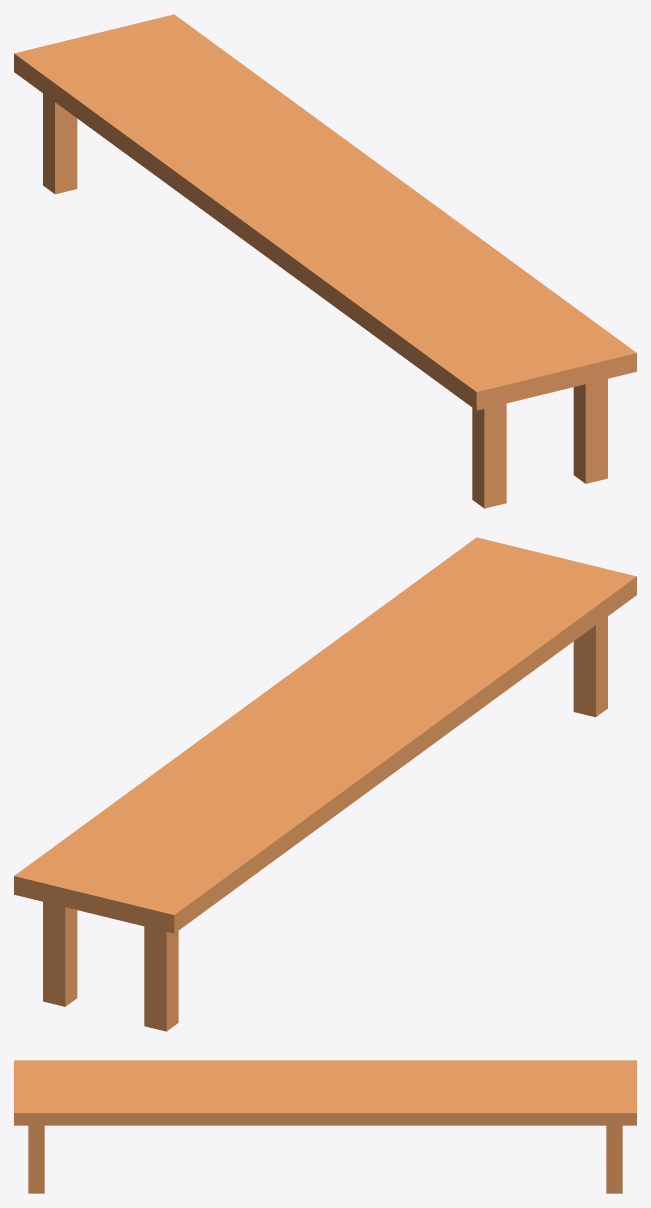
The model's file is table.fbx.
3 views of the same model, one above another, from view 1: azimuth 30°, elevation 25°; view 2: azimuth 150°, elevation 25°; view 3: azimuth 270°, elevation 25° (orthographic). The views are drawn at different scales.
Visible parts, largest first — view 1: Cube; view 2: Cube; view 3: Cube.
Boxes of the visible parts, box(x1,y1,x2,y2) form: Cube: box(14, 14, 636, 508); Cube: box(14, 537, 636, 1031); Cube: box(14, 1060, 636, 1193).
Size of the model in its own units: 200 by 154 by 1000.
1 material, 1 textured.
